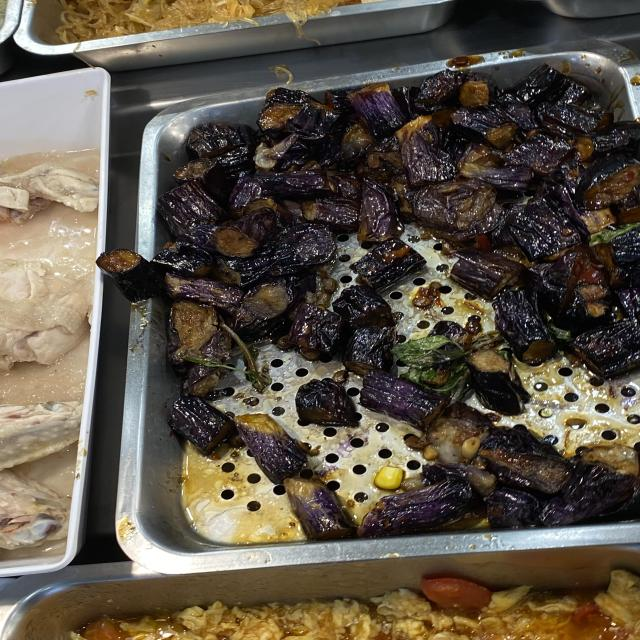eggplant: (217, 127, 587, 234)
